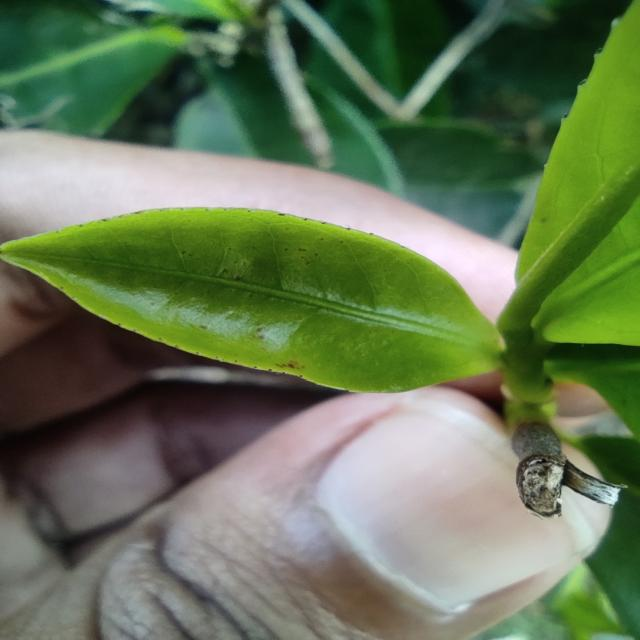Category C 4-7 days: (4, 145, 512, 501)
